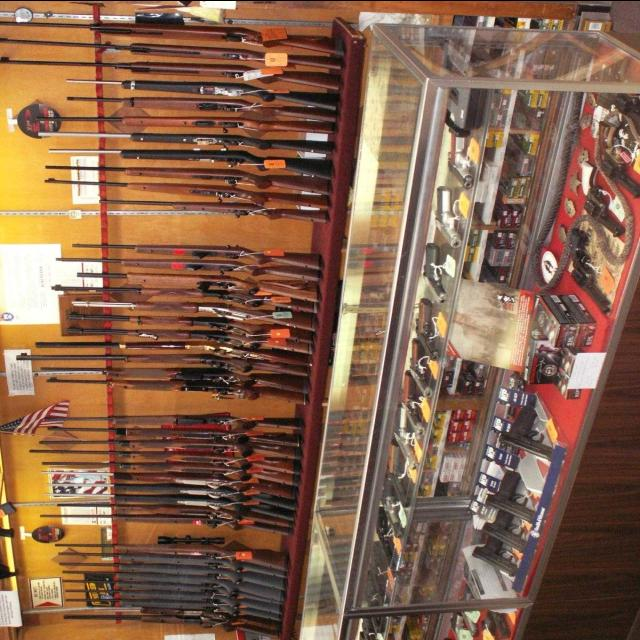heavyweapon: (112, 144, 347, 179), (47, 374, 327, 401)
